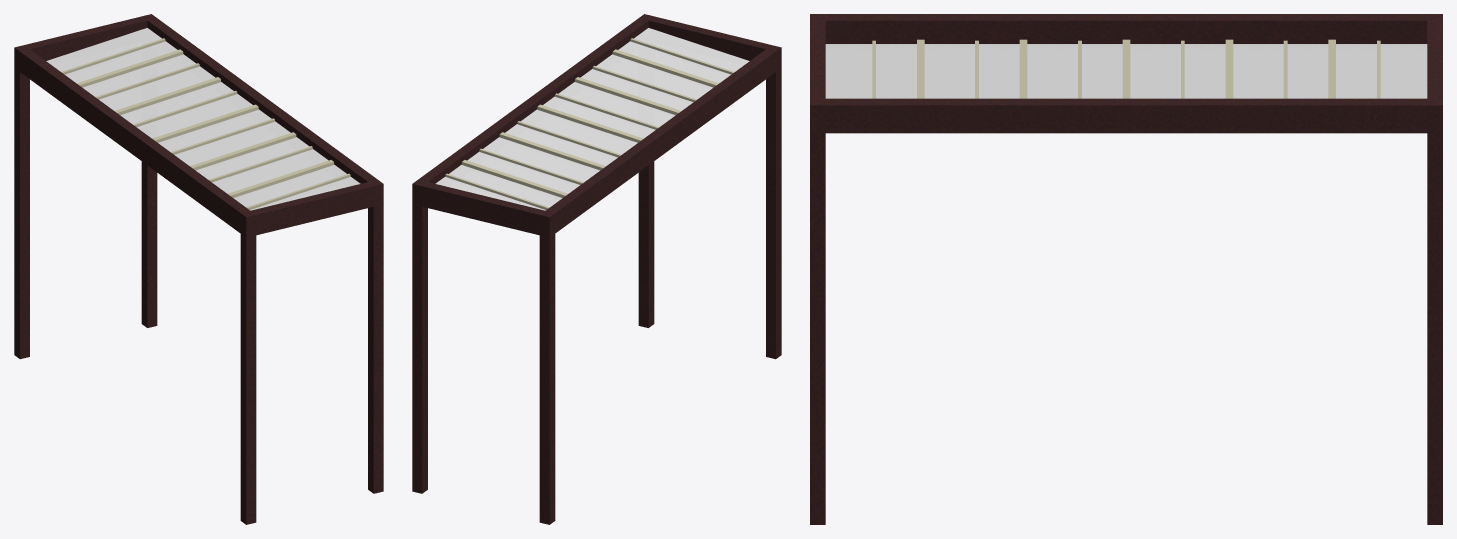
The model's file is hyr-single_h30-w13-l40_rustycopper.fbx.
3 renders of one model, left to right at view 1: azimuth 30°, elevation 25°; view 2: azimuth 150°, elevation 25°; view 3: azimuth 270°, elevation 25°, orthographic. The views are drawn at different scales.
Parts seen in each view (by area): view 1: hyr-single_h30-w13-l40_rustycopper; view 2: hyr-single_h30-w13-l40_rustycopper; view 3: hyr-single_h30-w13-l40_rustycopper.
Part boxes in pixels (left/top/right/bottom): hyr-single_h30-w13-l40_rustycopper: left=14, top=14, right=383, bottom=524; hyr-single_h30-w13-l40_rustycopper: left=412, top=14, right=781, bottom=524; hyr-single_h30-w13-l40_rustycopper: left=810, top=14, right=1442, bottom=524.
Size of the model in its own units: 140 by 300 by 410.
Materials: 3 (2 with a texture image).
